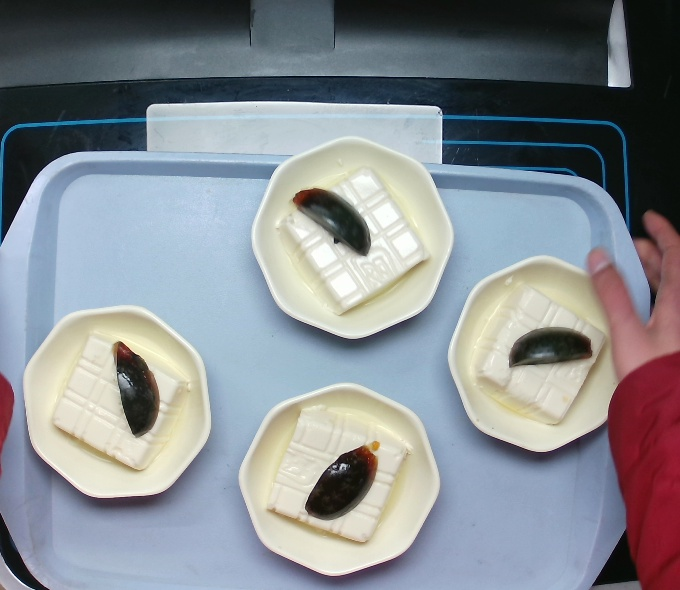wcq-PiDanDouFu: (276, 165, 431, 318), (259, 401, 414, 543), (470, 280, 611, 427), (48, 326, 187, 472)
